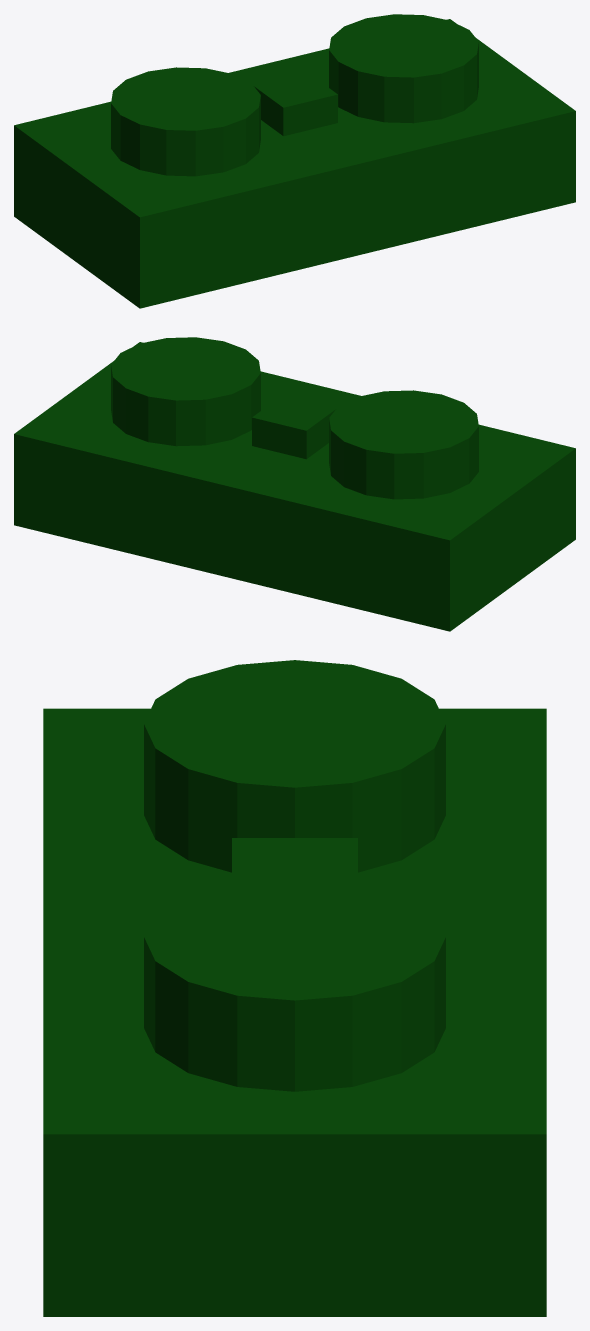
The model's file is brick-g.glb.
3 views of the same model, one above another, from view 1: azimuth 30°, elevation 25°; view 2: azimuth 150°, elevation 25°; view 3: azimuth 270°, elevation 25° (orthographic). The views are drawn at different scales.
Parts seen in each view (by area): view 1: 3023 103X, Cube; view 2: 3023 103X, Cube; view 3: 3023 103X, Cube.
Boxes of the visible parts, x1=… form: 3023 103X: x1=14, y1=14, x2=575, y2=308; Cube: x1=253, y1=71, x2=337, y2=136; 3023 103X: x1=14, y1=337, x2=575, y2=631; Cube: x1=252, y1=394, x2=336, y2=459; 3023 103X: x1=43, y1=660, x2=546, y2=1316; Cube: x1=232, y1=838, x2=357, y2=878.
Bounding box in the file's own units: 16 × 4.8 × 8.
